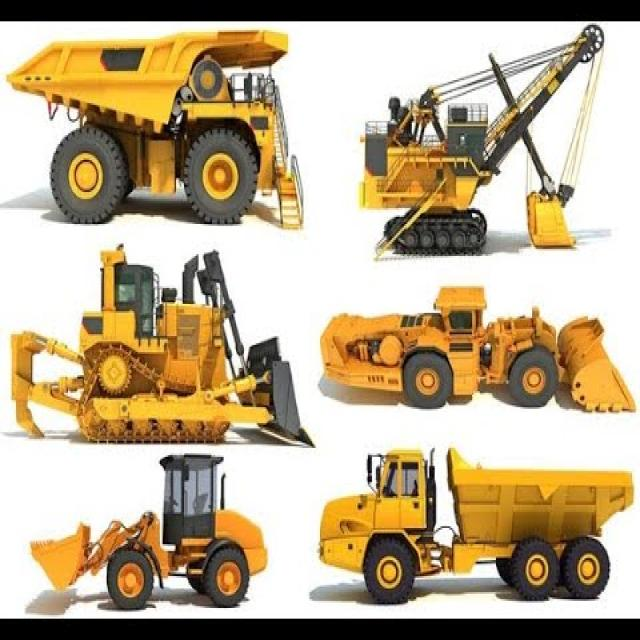buldozerpayloadergrader: (11, 229, 321, 447), (310, 280, 637, 432), (14, 440, 267, 611)
dump_truck: (1, 26, 316, 244), (315, 438, 628, 630)
excavator: (338, 36, 627, 274)
